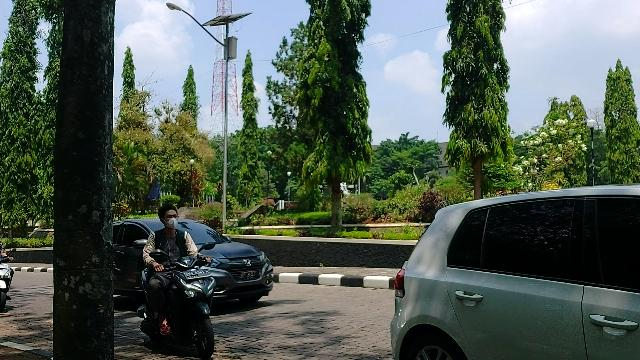motor: (139, 256, 218, 358)
non-helm: (159, 205, 179, 229)
